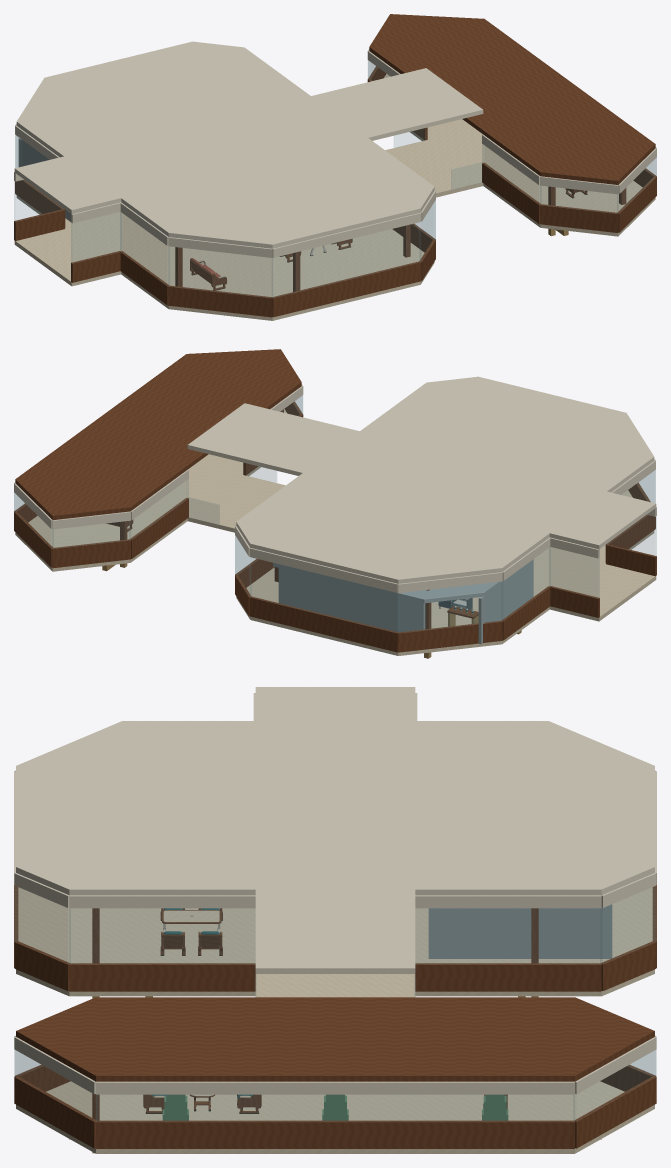
The model's file is D04_STARBOARD_CENTRAL_CO_r001.glb.
The picture shows the model from 3 angles, top to bottom: view 1: azimuth 30°, elevation 25°; view 2: azimuth 150°, elevation 25°; view 3: azimuth 270°, elevation 25°; orthographic projection. The views are drawn at different scales.
Parts seen in each view (by area): view 1: SCC_CommonsRoof, SCC_CommonsFloor, SCC_QuietLowRoof, SCC_WestGlass7_0, SCC_WestGlass8_0, SCC_WestDado7_0, SCC_WestDado8_0, SCC_WestGlass10_0, SCC_WestGlass9_0, SCC_EastDado4_0, SCC_EastGlass4_0, SCC_WestHead7_0 (+19 smaller); view 2: SCC_CommonsRoof, SCC_QuietLowRoof, SCC_CommonsFloor, SCC_WestGlass3_0, SCC_ServiceNorth, SCC_WestGlass2_0, SCC_WestDado3_0, SCC_WestDado2_0, SCC_StockWest, SCC_WestGlass0_0, SCC_WestGlass1_0, SCC_ServiceLowCanopy (+21 smaller); view 3: SCC_CommonsRoof, SCC_QuietLowRoof, SCC_CommonsFloor, SCC_EastDado2_0, SCC_EastGlass2_0, SCC_WestGlass5_0, SCC_WestGlass5_1, SCC_ReturnEast, SCC_EastHead2_0, SCC_WestDado5_0, SCC_WestDado5_1, SCC_WestGlass4_0 (+16 smaller).
Boxes of the visible parts, <box> form: SCC_CommonsRoof: <box>14,41,483,248</box>; SCC_CommonsFloor: <box>14,73,655,320</box>; SCC_QuietLowRoof: <box>369,14,655,184</box>; SCC_WestGlass7_0: <box>272,222,420,297</box>; SCC_WestGlass8_0: <box>169,247,272,297</box>; SCC_WestDado7_0: <box>272,261,421,317</box>; SCC_WestDado8_0: <box>168,285,272,317</box>; SCC_WestGlass10_0: <box>71,212,121,262</box>; SCC_WestGlass9_0: <box>120,212,169,285</box>; SCC_EastDado4_0: <box>540,204,618,232</box>; SCC_EastGlass4_0: <box>540,186,617,212</box>; SCC_WestHead7_0: <box>272,212,421,257</box>; SCC_CommonsRoof: <box>187,376,656,583</box>; SCC_QuietLowRoof: <box>15,349,301,520</box>; SCC_CommonsFloor: <box>15,409,656,655</box>; SCC_WestGlass3_0: <box>250,557,398,632</box>; SCC_ServiceNorth: <box>278,568,425,632</box>; SCC_WestGlass2_0: <box>398,582,501,632</box>; SCC_WestDado3_0: <box>249,596,398,652</box>; SCC_WestDado2_0: <box>398,620,502,652</box>; SCC_StockWest: <box>478,560,533,644</box>; SCC_WestGlass0_0: <box>549,547,599,598</box>; SCC_WestGlass1_0: <box>501,547,550,620</box>; SCC_ServiceLowCanopy: <box>273,559,533,603</box>; SCC_CommonsRoof: <box>16,687,654,973</box>; SCC_QuietLowRoof: <box>16,997,654,1081</box>; SCC_CommonsFloor: <box>16,887,654,1153</box>; SCC_EastDado2_0: <box>96,1120,574,1148</box>; SCC_EastGlass2_0: <box>96,1095,574,1121</box>; SCC_WestGlass5_0: <box>415,908,600,964</box>; SCC_WestGlass5_1: <box>70,908,255,964</box>; SCC_ReturnEast: <box>428,906,606,958</box>; SCC_EastHead2_0: <box>96,1081,574,1094</box>; SCC_WestDado5_0: <box>415,963,601,991</box>; SCC_WestDado5_1: <box>69,963,255,991</box>; SCC_WestGlass4_0: <box>600,886,655,962</box>.
Size of the model in its own units: 32.08 by 5.27 by 24.16.
81 materials, 77 textured.
